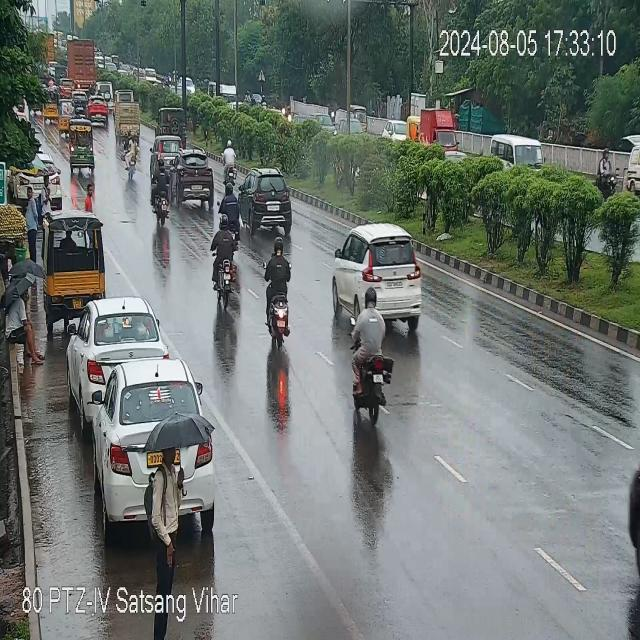2-wheelers: (346, 280, 393, 426), (260, 242, 298, 342), (207, 218, 242, 311), (151, 160, 178, 226), (221, 142, 238, 186), (125, 135, 136, 183)
auto: (42, 214, 106, 320), (65, 120, 97, 172), (41, 82, 59, 124)
car: (94, 364, 218, 531), (66, 302, 164, 423), (333, 224, 435, 330), (238, 166, 294, 236), (168, 141, 215, 209), (149, 135, 183, 162), (88, 97, 110, 124)
pedestrian: (150, 410, 198, 586), (4, 263, 38, 371), (25, 188, 41, 256)
truck: (66, 33, 98, 96), (115, 94, 142, 141)
